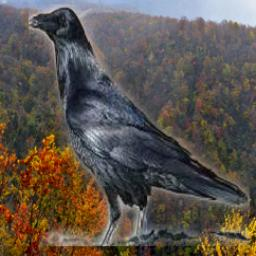Crow: (28, 5, 249, 247)
